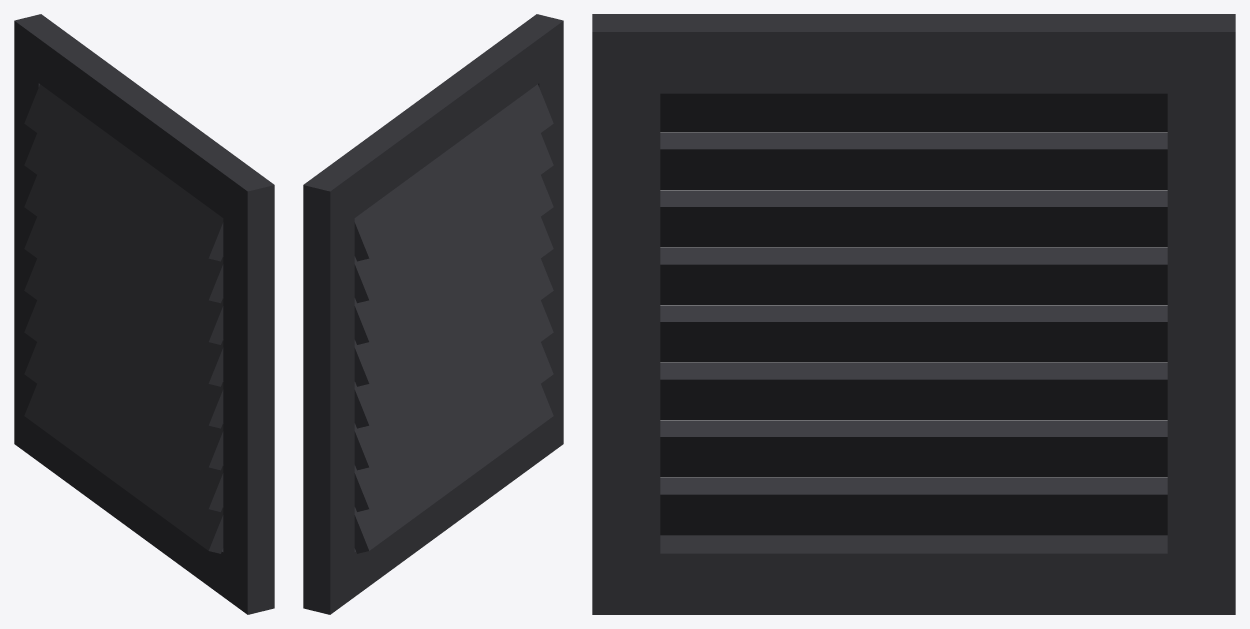
File: Vent.glb
3 views of the same model, side by side, from view 1: azimuth 30°, elevation 25°; view 2: azimuth 150°, elevation 25°; view 3: azimuth 270°, elevation 25° (orthographic). The views are drawn at different scales.
Visible parts, largest first — view 1: ventBase; view 2: ventBase; view 3: ventBase.
Part boxes in pixels (left/top/right/bottom): ventBase: left=14, top=14, right=274, bottom=614; ventBase: left=303, top=14, right=563, bottom=614; ventBase: left=592, top=14, right=1235, bottom=614.
Size of the model in its own units: 0.0616 by 0.6 by 0.6.
1 material, 1 textured.
